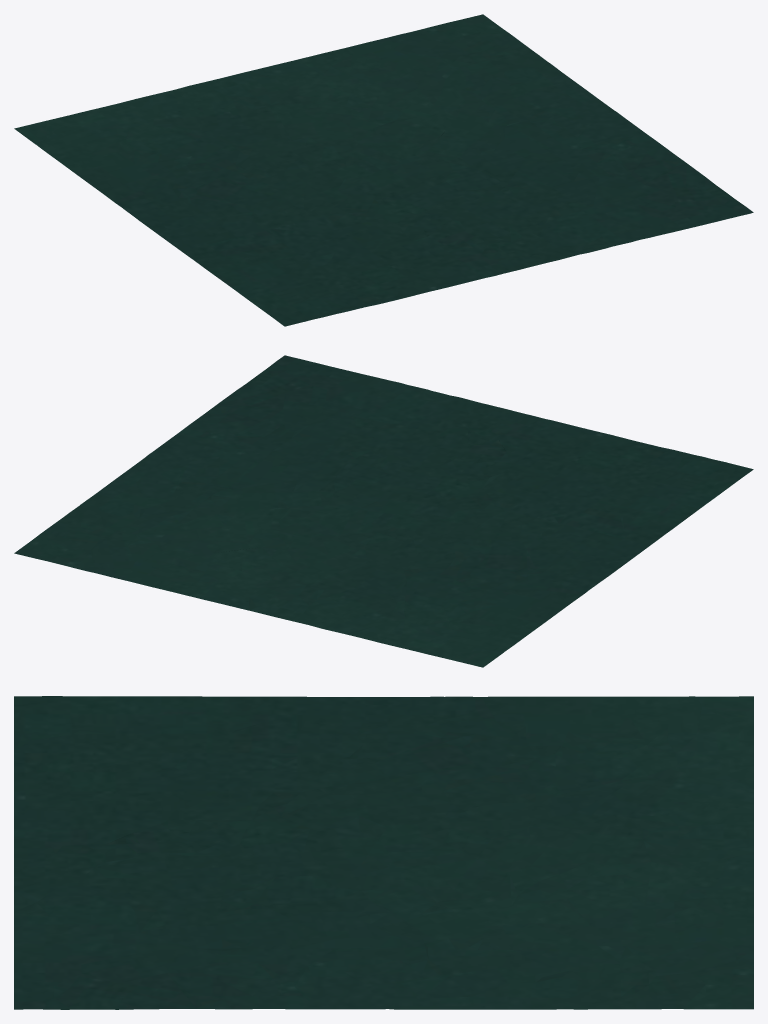
3 views of the same model, one above another, from view 1: azimuth 30°, elevation 25°; view 2: azimuth 150°, elevation 25°; view 3: azimuth 270°, elevation 25° (orthographic). The views are drawn at different scales.
Bounding box in the file's own units: 104 × 0.2776 × 104.
Materials: 3 (3 with a texture image).
